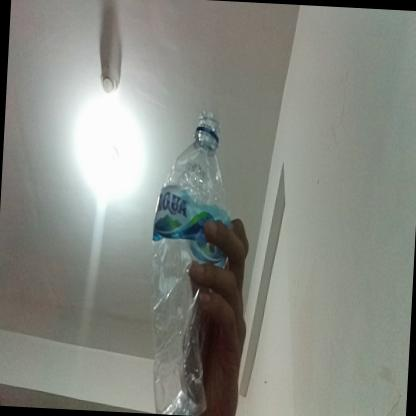plastic_bottles: (142, 101, 240, 416)
